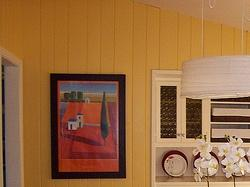pottedplant: (187, 135, 250, 187)
